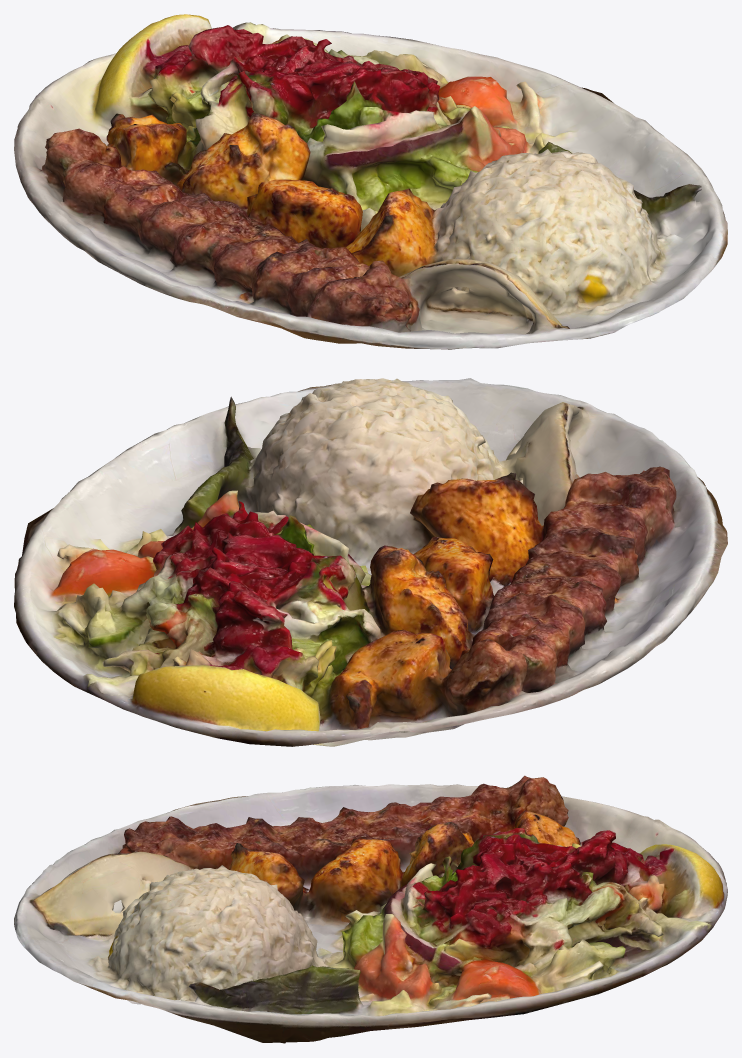
The model's file is turkish-sheperd-salad.glb.
3 renders of one model, top to bottom at view 1: azimuth 30°, elevation 25°; view 2: azimuth 150°, elevation 25°; view 3: azimuth 270°, elevation 25°, orthographic. The views are drawn at different scales.
Parts seen in each view (by area): view 1: baked_mesh; view 2: baked_mesh; view 3: baked_mesh.
Part boxes in pixels (x1,y1,x2,y2): baked_mesh: [14, 14, 727, 349]; baked_mesh: [14, 378, 727, 746]; baked_mesh: [14, 775, 727, 1043].
Size of the model in its own units: 0.901 by 0.1735 by 1.14.
Materials: 1 (1 with a texture image).
